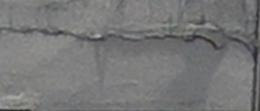fissura: (1, 0, 260, 56)
